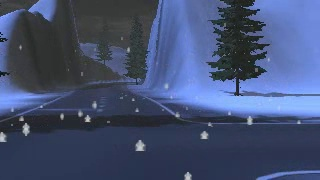Lane: (0, 82, 260, 179)
